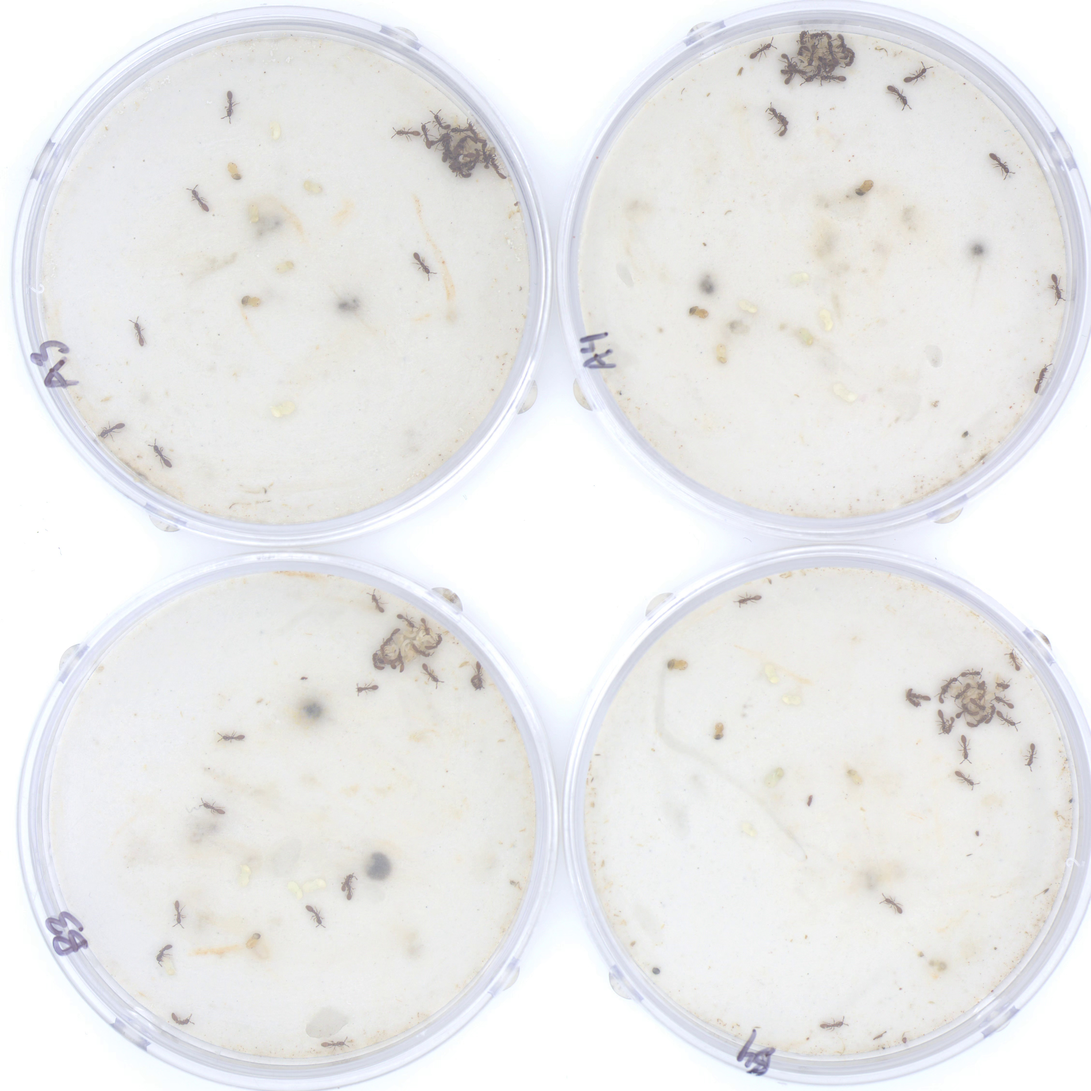brood: (439, 112, 500, 174), (941, 668, 1005, 725), (376, 616, 441, 667), (785, 30, 850, 80)
